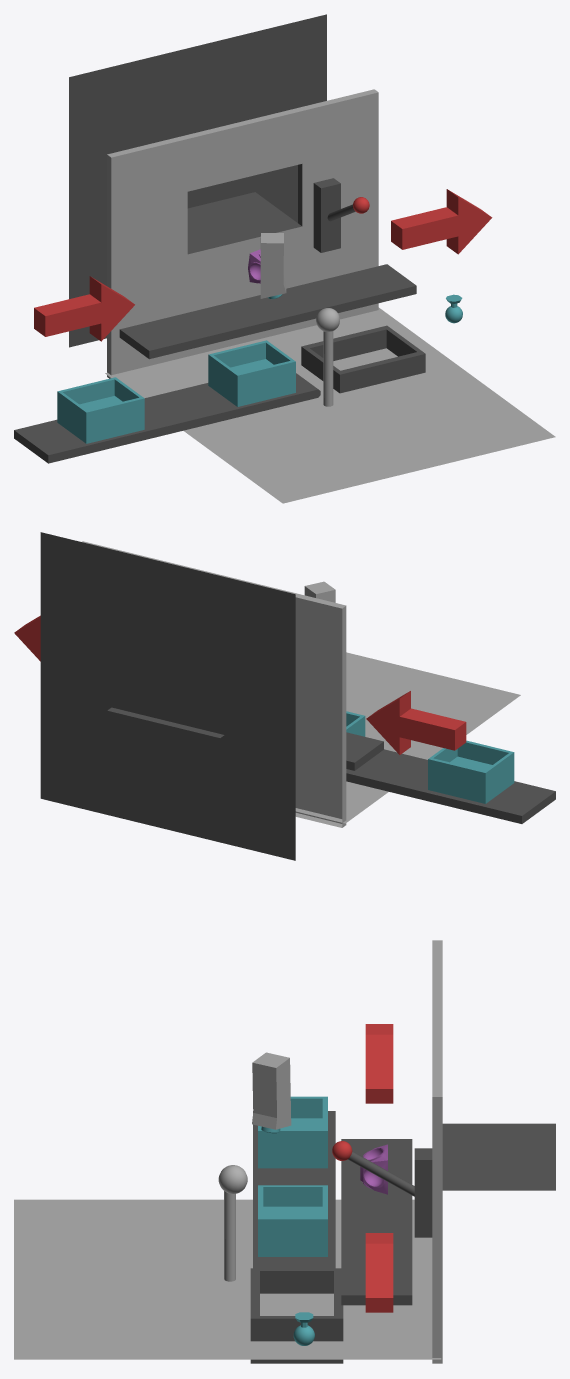
File: Blockout export 2.fbx
The picture shows the model from 3 angles, top to bottom: view 1: azimuth 30°, elevation 25°; view 2: azimuth 150°, elevation 25°; view 3: azimuth 270°, elevation 25°; orthographic projection. The views are drawn at different scales.
Visible parts, largest first — view 1: wall_cube1, floor_plane, pPlane1, conveyer1, conveyer2, pCube18, parts_box, parts_box1, pCube15, pCube16, lever, button (+1 smaller); view 2: pPlane1, wall_cube1, floor_plane, conveyer2, parts_box1, pCube15, conveyer1, pCube16, button, parts_box; view 3: floor_plane, wall_cube1, conveyer1, pCube18, parts_box, conveyer2, parts_box1, button, pCube15, pCube16, lever, pCylinder4 (+3 smaller).
Boxes of the visible parts, x1,y1,x2,y2 form: wall_cube1: [107, 89, 378, 378]; floor_plane: [105, 307, 555, 503]; pPlane1: [69, 14, 326, 347]; conveyer1: [119, 264, 416, 359]; conveyer2: [14, 373, 320, 463]; pCube18: [301, 325, 425, 393]; parts_box: [208, 340, 295, 406]; parts_box1: [57, 377, 144, 443]; pCube15: [34, 276, 134, 341]; pCube16: [391, 189, 492, 254]; lever: [313, 178, 340, 252]; button: [260, 233, 286, 298]; pPlane1: [40, 532, 295, 860]; wall_cube1: [82, 541, 346, 827]; floor_plane: [295, 652, 520, 823]; conveyer2: [346, 749, 555, 823]; parts_box1: [428, 740, 514, 803]; pCube15: [366, 691, 466, 754]; conveyer1: [346, 732, 383, 770]; pCube16: [14, 615, 40, 661]; button: [304, 581, 335, 602]; parts_box: [346, 711, 365, 736]; floor_plane: [14, 1199, 441, 1359]; wall_cube1: [432, 940, 555, 1363]; conveyer1: [341, 1139, 412, 1305]; pCube18: [250, 1268, 343, 1363]; parts_box: [258, 1185, 327, 1256]; conveyer2: [253, 1111, 335, 1268]; parts_box1: [258, 1096, 327, 1168]; button: [252, 1052, 291, 1129]; pCube15: [365, 1024, 393, 1103]; pCube16: [365, 1233, 393, 1312]; lever: [414, 1148, 432, 1237]; pCylinder4: [224, 1191, 235, 1281].
Size of the model in its own units: 879 by 481 by 701.
